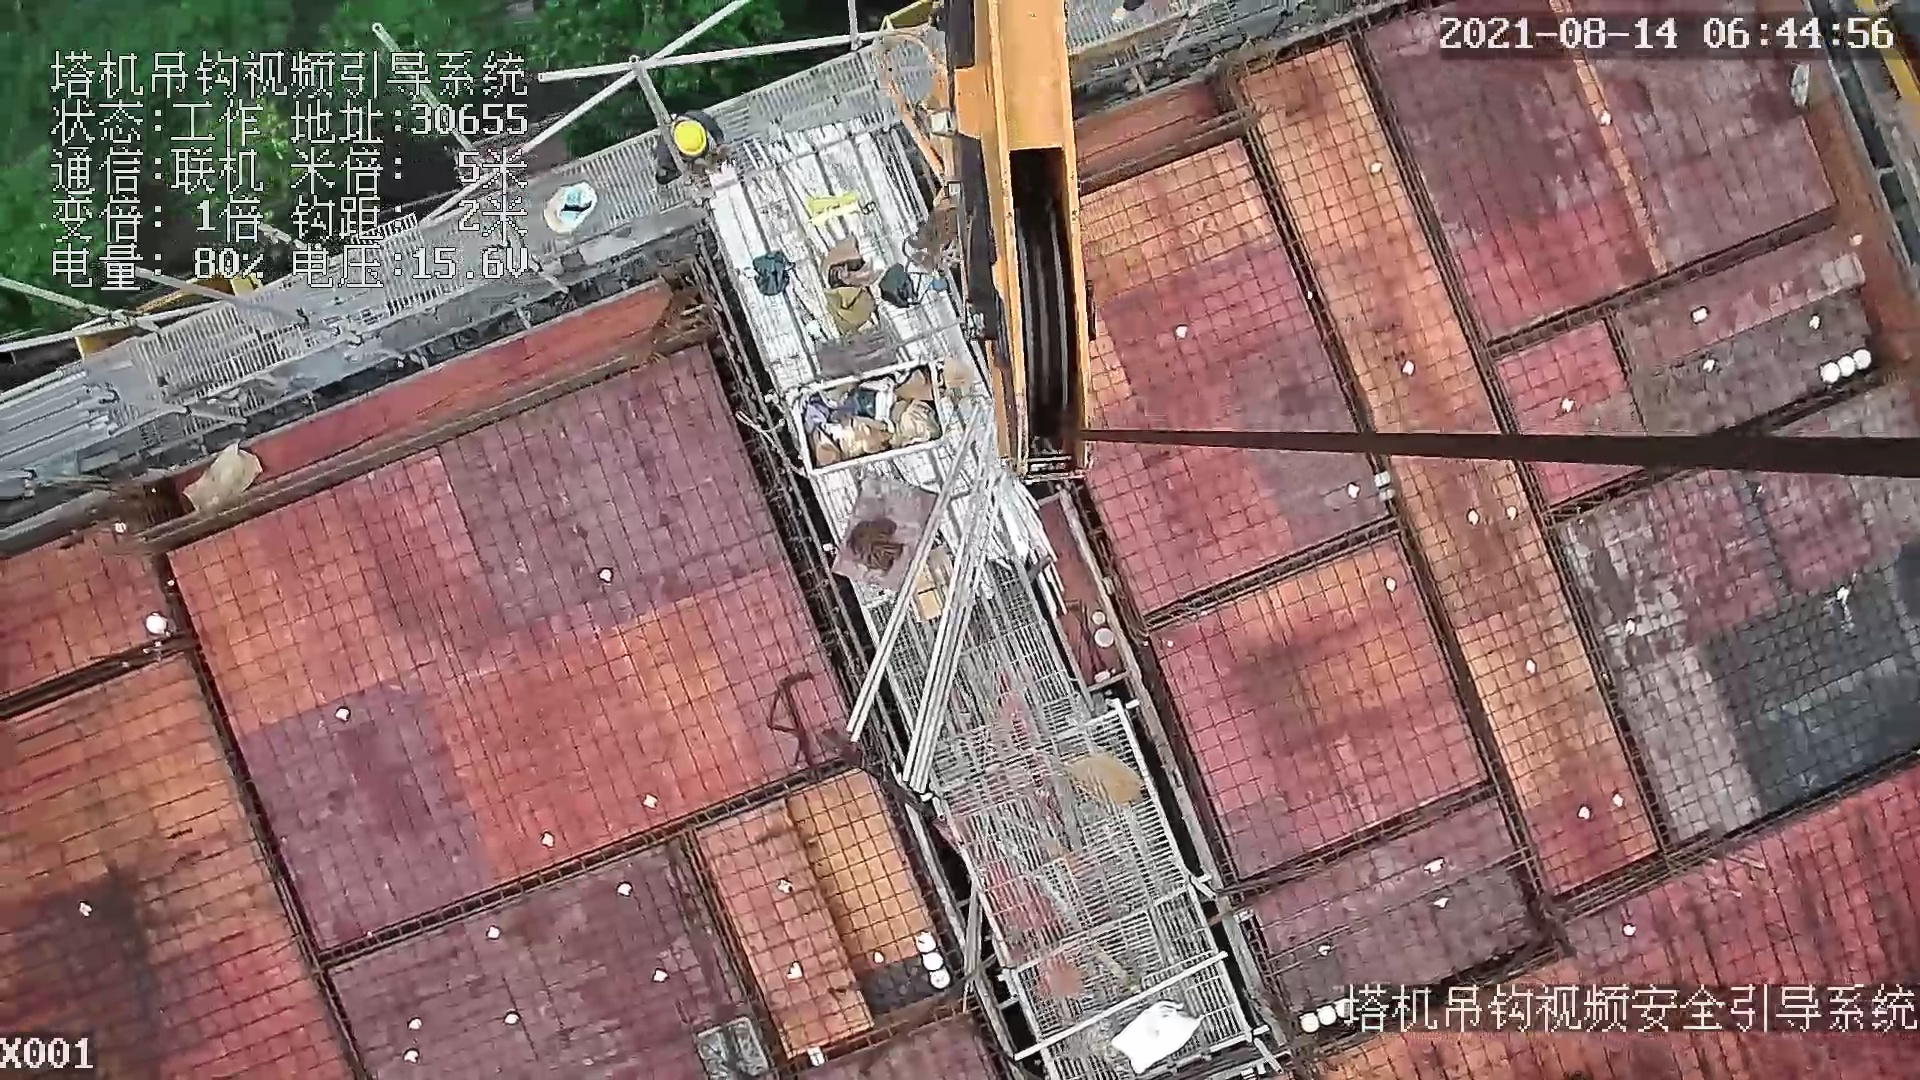helmet: (678, 122, 711, 160)
hook: (867, 13, 1099, 483)
person: (654, 113, 727, 182)
